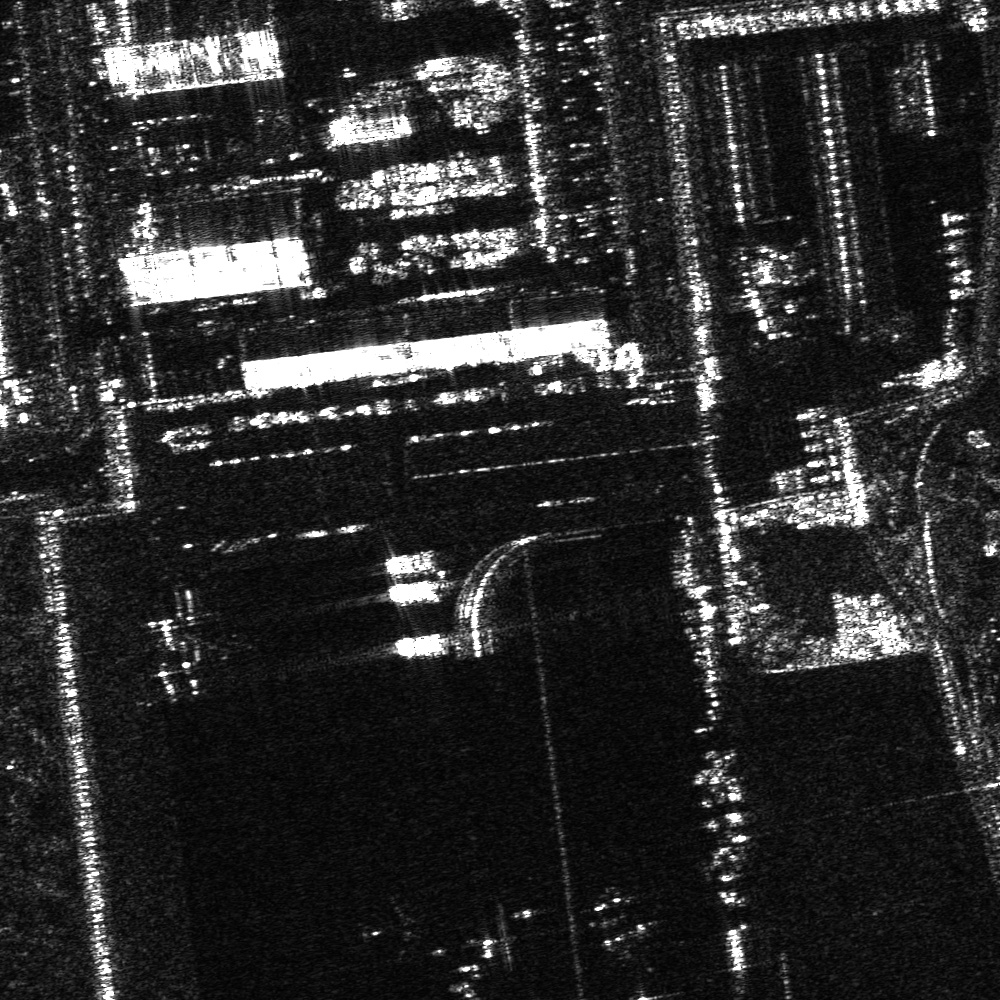Boeing787: (353, 889, 430, 962)
other: (128, 609, 220, 705)
